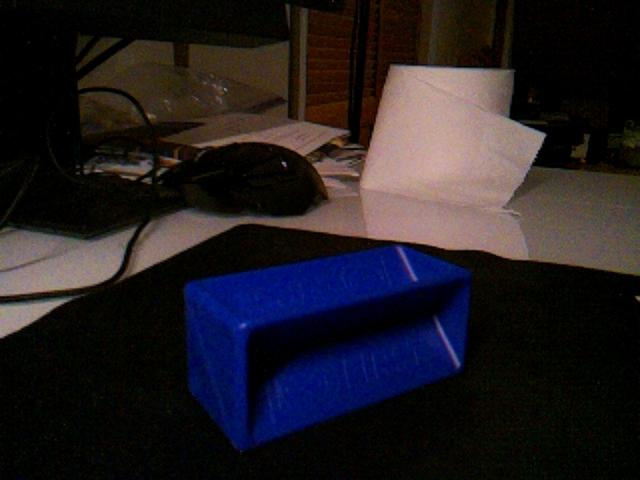blue: (182, 242, 474, 452)
